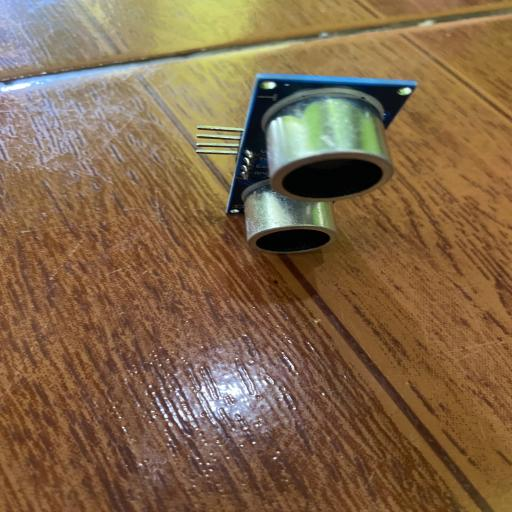Ultrasonic Sensor: (195, 72, 419, 254)
